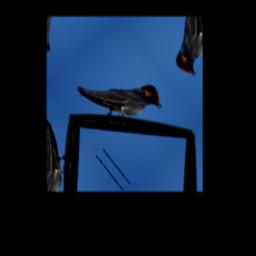Swallow: (76, 45, 167, 146)
